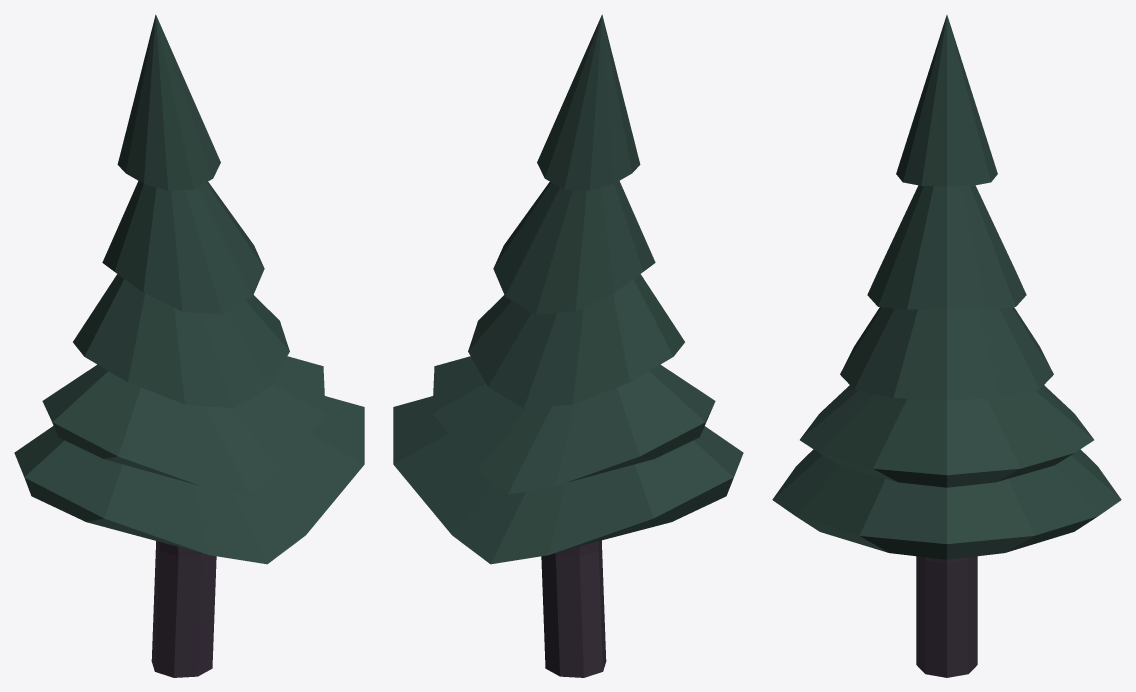
Rendered from Tree2.fbx.
The picture shows the model from 3 angles, left to right: view 1: azimuth 30°, elevation 25°; view 2: azimuth 150°, elevation 25°; view 3: azimuth 270°, elevation 25°; orthographic projection. The views are drawn at different scales.
Parts seen in each view (by area): view 1: Cone.004; view 2: Cone.004; view 3: Cone.004.
Boxes of the visible parts, x1,y1,x2,y2 form: Cone.004: (14, 14, 364, 677); Cone.004: (393, 14, 743, 677); Cone.004: (772, 15, 1121, 677).
Bounding box in the file's own units: 55.97 × 103 × 51.26.
